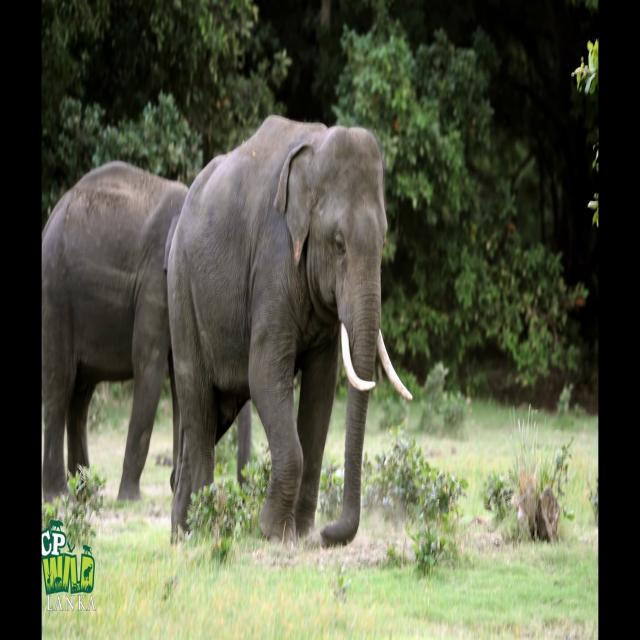Elephant: (164, 113, 412, 551), (41, 158, 251, 510)
